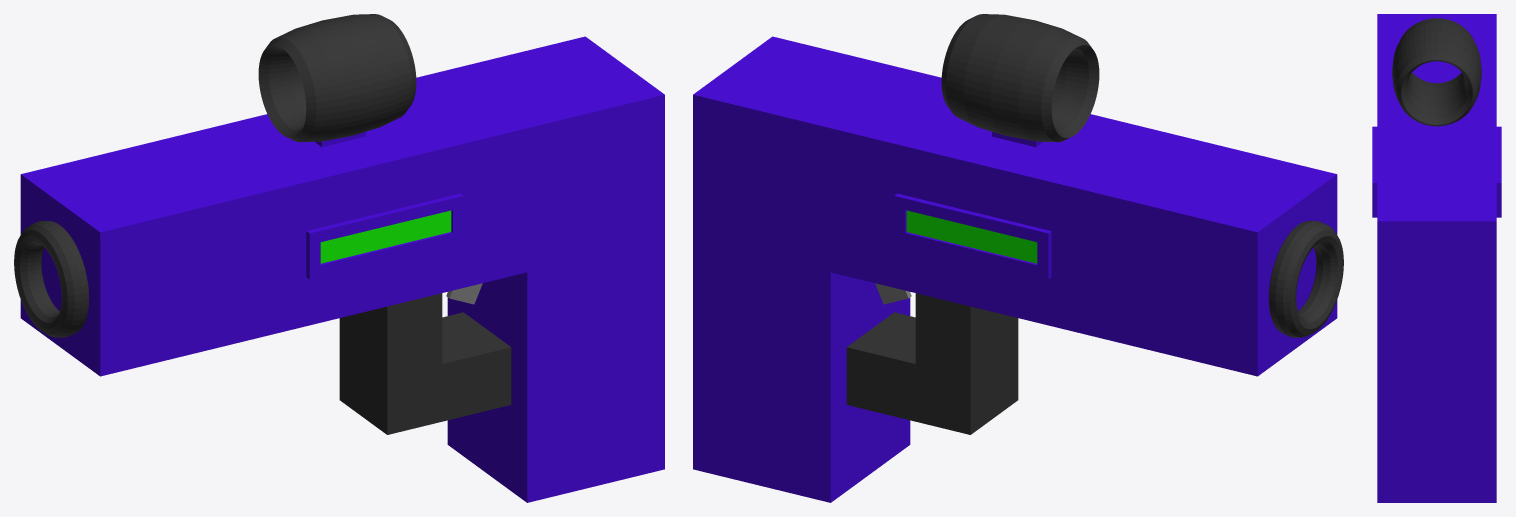
File: BallGunV2.glb
3 renders of one model, left to right at view 1: azimuth 30°, elevation 25°; view 2: azimuth 150°, elevation 25°; view 3: azimuth 270°, elevation 25°, orthographic. The views are drawn at different scales.
Visible parts, largest first — view 1: Cube.012, Cube.003, Mire, ForwardPart, CadrantLife, LifeTime; view 2: Cube.012, Cube.003, Mire, ForwardPart, CadrantLife, LifeTime; view 3: Cube.012, Mire, CadrantLife.
Boxes of the visible parts, x1,y1,x2,y2 form: Cube.012: (20,36,664,502); Cube.003: (339,293,511,434); Mire: (258,14,416,142); ForwardPart: (14,221,89,337); CadrantLife: (306,193,463,279); LifeTime: (320,210,451,263); Cube.012: (693,36,1337,502); Cube.003: (846,293,1018,434); Mire: (941,14,1099,142); ForwardPart: (1268,221,1343,337); CadrantLife: (894,193,1051,279); LifeTime: (906,210,1037,263); Cube.012: (1377,14,1496,502); Mire: (1392,18,1481,126); CadrantLife: (1372,126,1501,217).
Bounding box in the file's own units: 2.13 × 1.69 × 0.54.
